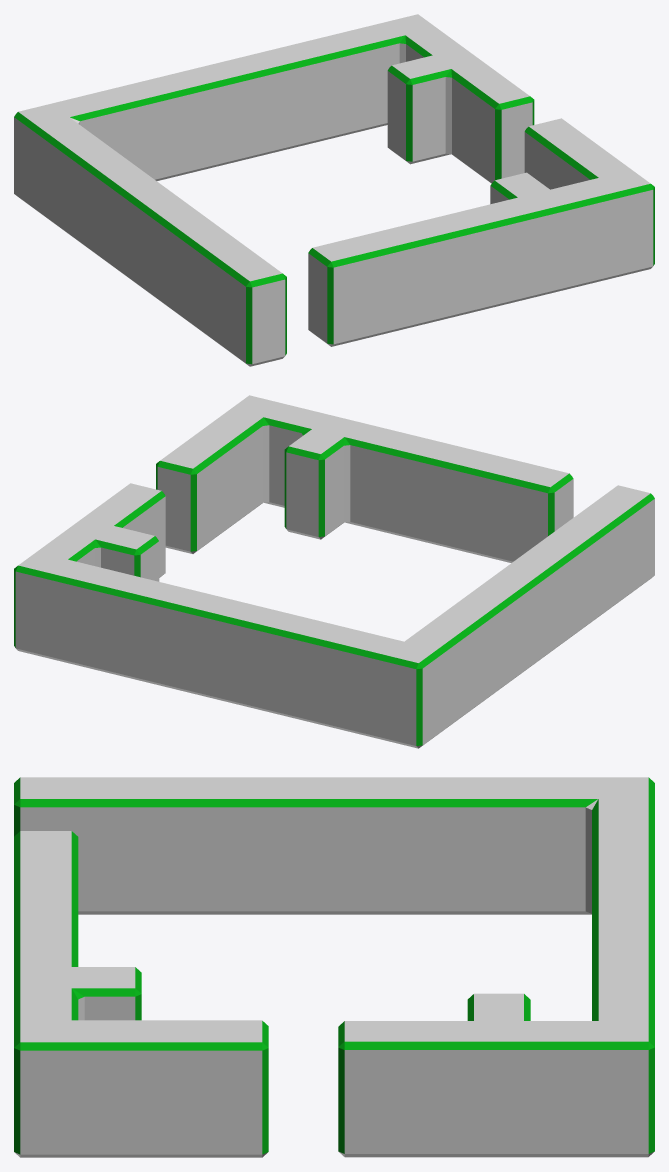
File: lvl8 (1).fbx
The picture shows the model from 3 angles, top to bottom: view 1: azimuth 30°, elevation 25°; view 2: azimuth 150°, elevation 25°; view 3: azimuth 270°, elevation 25°; orthographic projection. The views are drawn at different scales.
Visible parts, largest first — view 1: Cube.053; view 2: Cube.053; view 3: Cube.053.
Boxes of the visible parts, box(x1,y1,x2,y2) form: Cube.053: box(14, 14, 654, 366); Cube.053: box(14, 395, 654, 748); Cube.053: box(14, 777, 654, 1157).
Size of the model in its own units: 9.97 by 1.99 by 9.99.
